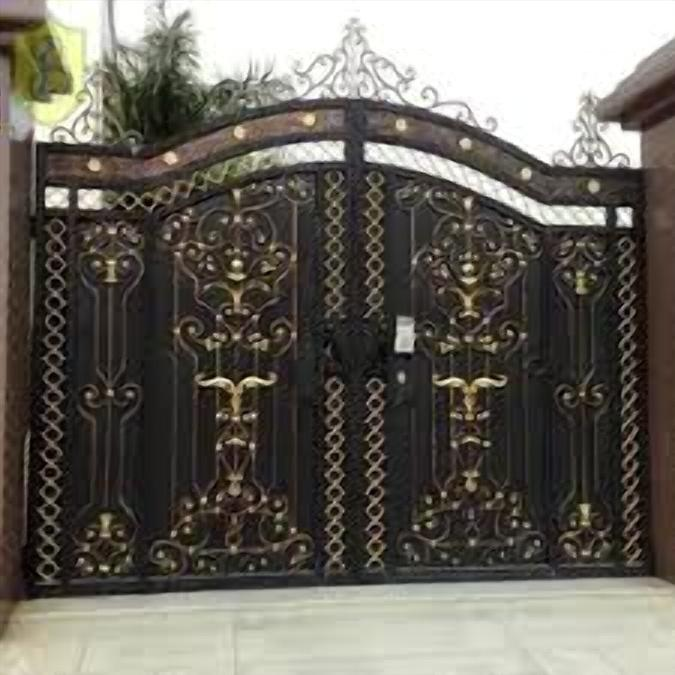Gate: (20, 17, 654, 602)
